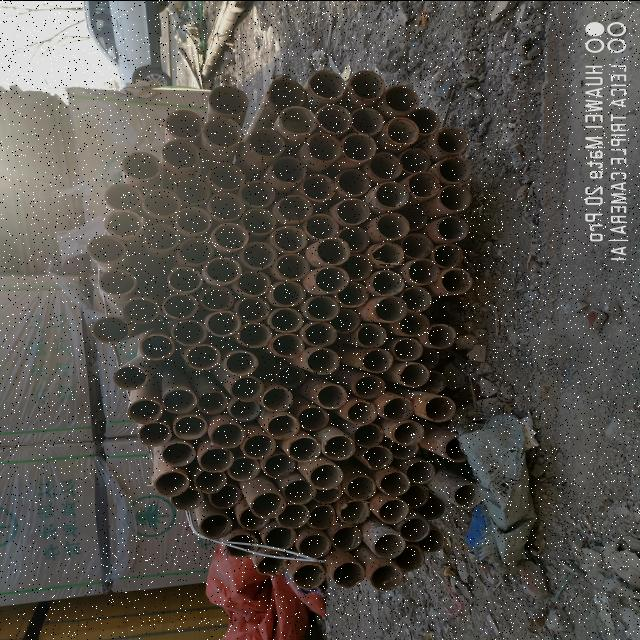pipe: (266, 76, 307, 110), (140, 186, 182, 218), (163, 108, 205, 140), (208, 83, 250, 115), (103, 208, 146, 238), (86, 232, 126, 264), (162, 138, 202, 170), (202, 116, 242, 148), (306, 68, 346, 100), (121, 150, 163, 180), (208, 160, 246, 192), (238, 177, 276, 209), (348, 68, 386, 100), (104, 182, 144, 212), (98, 266, 138, 296), (90, 314, 130, 344), (278, 104, 318, 134), (270, 154, 308, 185), (211, 221, 250, 251), (247, 126, 286, 156), (174, 174, 210, 206), (177, 235, 215, 265), (204, 256, 242, 286), (208, 190, 246, 220), (276, 193, 314, 223), (313, 235, 351, 265), (306, 131, 344, 161), (316, 102, 354, 132), (340, 132, 378, 162), (169, 318, 209, 346), (220, 348, 260, 376), (175, 204, 212, 234), (312, 264, 349, 294), (435, 154, 472, 184), (184, 342, 222, 371), (372, 294, 410, 323), (121, 296, 160, 324), (242, 240, 278, 270), (334, 166, 370, 196), (350, 104, 386, 134), (384, 82, 420, 112), (384, 115, 420, 145), (374, 180, 410, 210), (374, 210, 410, 240), (405, 168, 441, 198), (434, 124, 470, 154), (274, 252, 311, 281), (161, 292, 199, 320), (152, 468, 190, 496), (204, 308, 242, 336), (270, 278, 308, 306), (303, 294, 341, 322), (301, 171, 336, 201), (368, 150, 403, 180), (399, 284, 434, 314), (198, 446, 235, 474), (210, 420, 247, 448), (235, 268, 272, 296), (271, 224, 308, 252), (337, 252, 374, 280), (436, 212, 470, 242), (438, 182, 472, 212), (143, 221, 179, 249), (166, 265, 202, 293), (238, 320, 274, 348), (304, 212, 340, 240), (336, 225, 372, 253), (370, 240, 406, 268), (286, 434, 322, 462), (307, 462, 343, 490), (290, 560, 326, 588), (330, 560, 366, 588), (200, 283, 233, 313), (233, 296, 271, 322), (294, 532, 332, 558), (407, 106, 441, 135), (406, 256, 441, 284), (438, 267, 473, 295), (321, 432, 356, 460), (371, 531, 406, 559), (369, 562, 404, 590), (138, 332, 174, 359), (198, 511, 234, 538), (241, 207, 277, 234), (304, 347, 340, 374), (334, 196, 370, 223), (370, 269, 406, 296), (241, 432, 277, 459), (268, 306, 305, 332), (228, 374, 265, 400), (260, 452, 297, 478), (430, 240, 464, 268), (423, 394, 457, 422), (126, 398, 164, 423), (160, 387, 198, 412), (248, 491, 286, 516), (398, 146, 433, 173), (136, 420, 172, 446), (208, 482, 244, 508), (226, 454, 262, 480), (270, 332, 306, 358), (302, 320, 338, 346), (265, 413, 301, 439), (294, 404, 330, 430), (224, 532, 260, 558), (274, 503, 310, 529), (440, 433, 472, 462), (111, 364, 148, 389), (335, 281, 370, 307), (396, 361, 431, 387), (400, 232, 435, 258), (259, 386, 294, 412), (390, 418, 425, 444), (329, 524, 364, 550), (172, 414, 208, 439), (282, 478, 318, 503), (424, 322, 456, 350), (452, 480, 484, 508), (378, 496, 410, 524), (392, 544, 424, 572), (194, 468, 228, 494), (360, 347, 394, 373), (352, 372, 386, 398), (314, 382, 348, 408), (344, 400, 378, 426), (380, 394, 414, 420), (351, 422, 385, 448), (160, 442, 196, 466), (226, 397, 262, 421), (260, 525, 296, 549), (391, 336, 424, 362), (398, 311, 431, 337), (338, 498, 371, 524), (398, 516, 431, 542), (354, 322, 388, 347), (398, 203, 428, 231), (376, 470, 411, 494), (405, 458, 437, 484), (398, 482, 430, 508), (344, 474, 376, 500), (236, 504, 268, 530), (305, 502, 337, 528), (328, 307, 361, 332), (361, 444, 394, 469), (196, 389, 228, 414), (275, 363, 307, 388), (170, 488, 204, 511), (416, 493, 446, 519), (417, 528, 448, 553), (255, 553, 289, 575), (418, 369, 448, 393), (388, 439, 420, 459), (416, 346, 440, 371), (312, 483, 342, 503)
